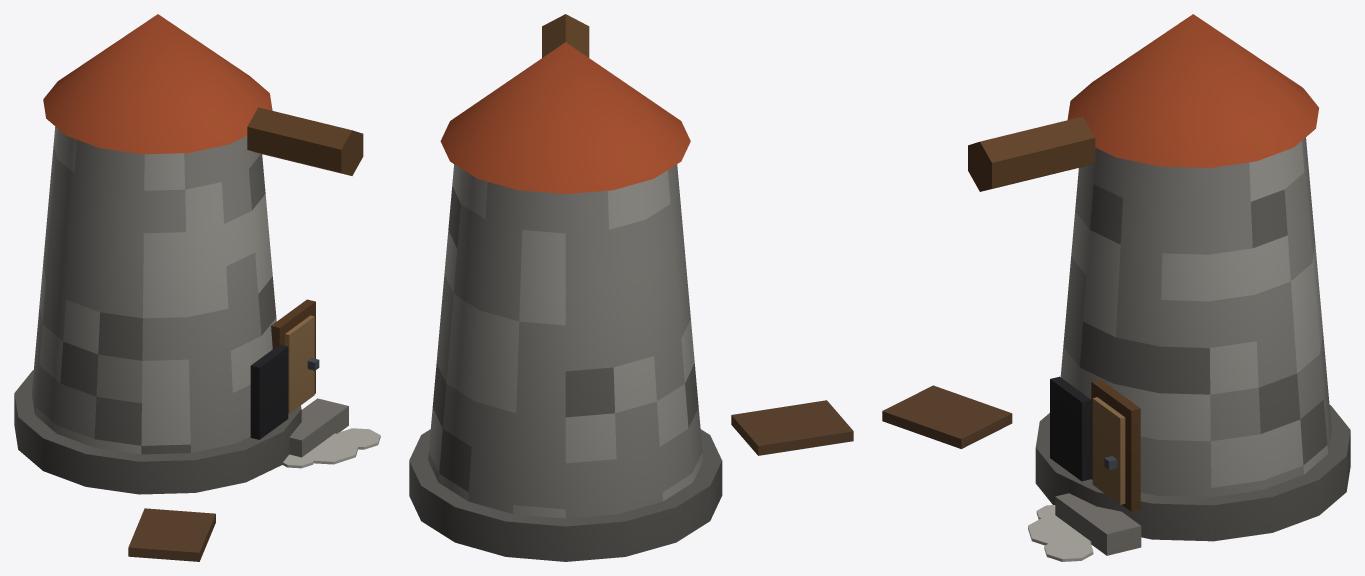
The model's file is building_9.glb.
3 views of the same model, side by side, from view 1: azimuth 30°, elevation 25°; view 2: azimuth 150°, elevation 25°; view 3: azimuth 270°, elevation 25° (orthographic). The views are drawn at different scales.
Parts seen in each view (by area): view 1: building_9; view 2: building_9; view 3: building_9.
Part boxes in pixels (x1,y1,x2,y2): building_9: (14, 14, 380, 561); building_9: (409, 14, 853, 561); building_9: (882, 14, 1350, 561).
Size of the model in its own units: 0.496 by 0.64 by 0.5898.
